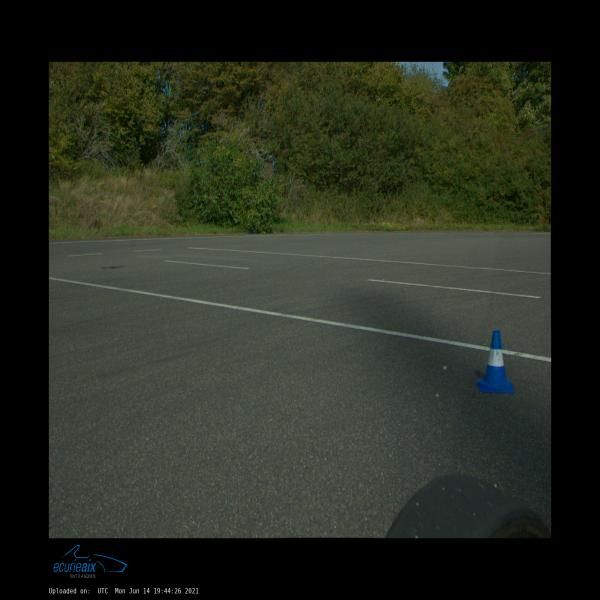blue_cone: (476, 331, 514, 393)
